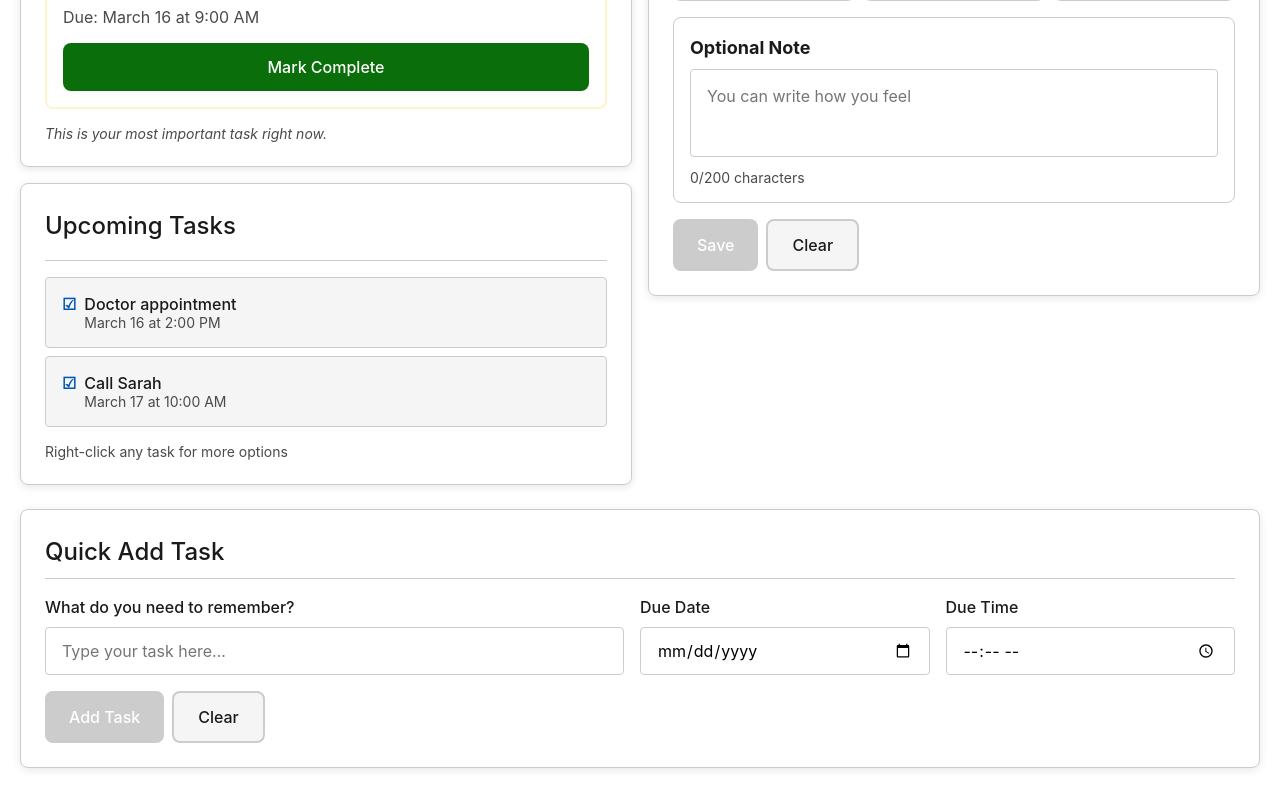
DashboardView › clears quick add form
(page scrolled)
Type "Something" into the field labelled "What do you need to remember?".
click(334, 651); type("Something")  # box [45, 627, 624, 675]
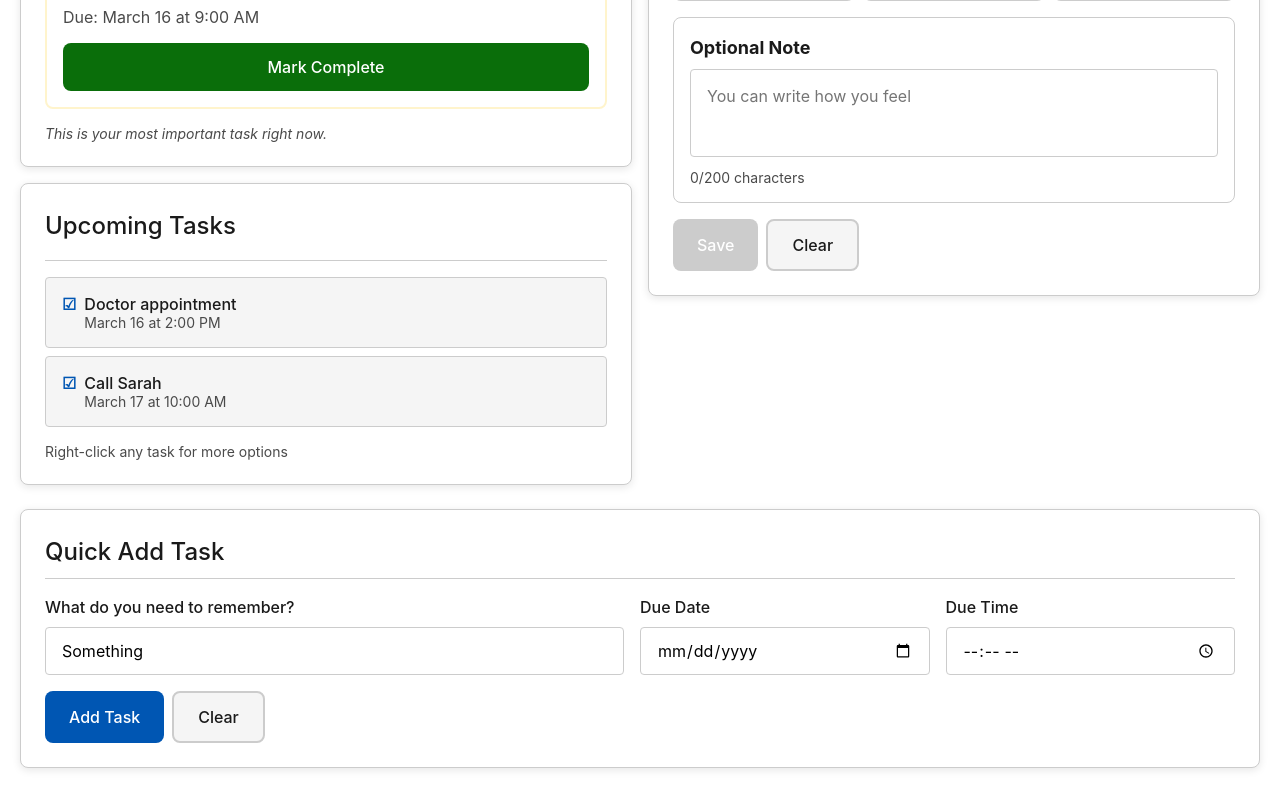
Click the button with aria-label "Clear quick add form".
click(218, 717)  # box [172, 691, 265, 743]
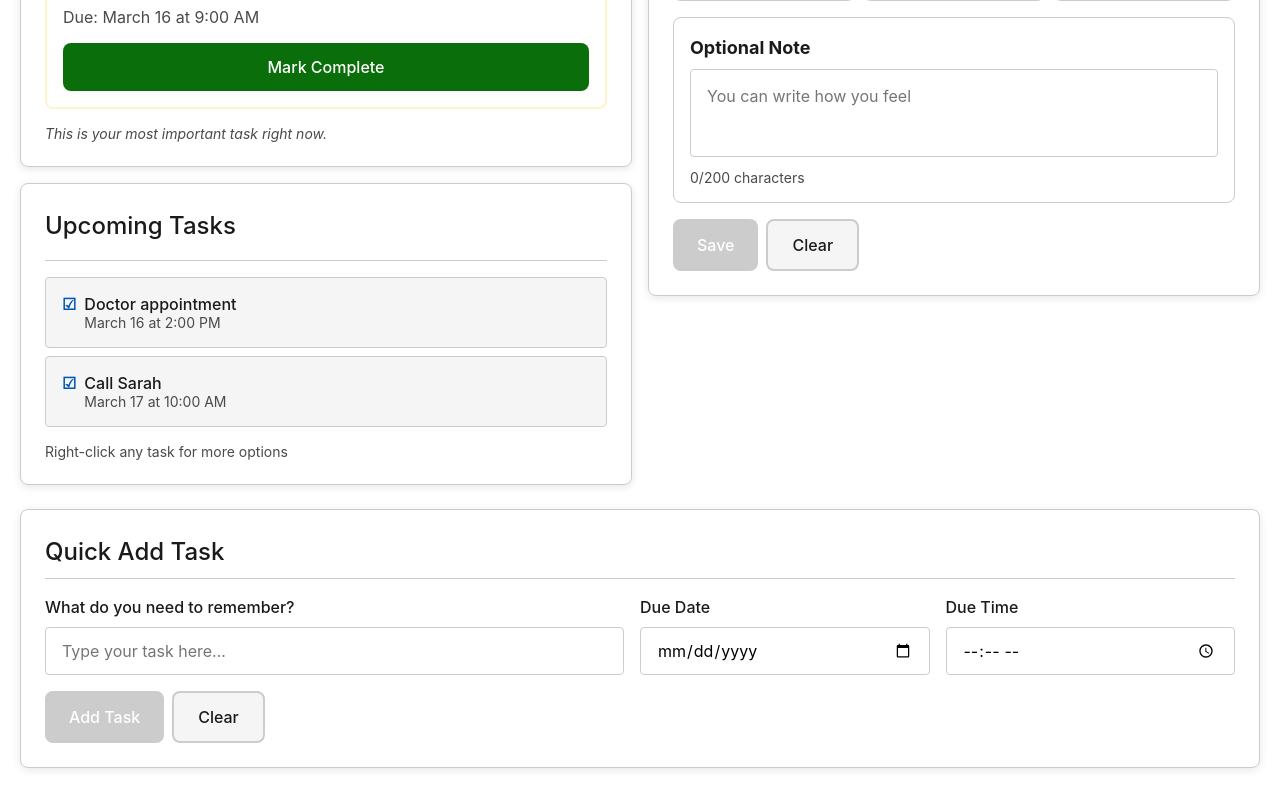
Now the field labelled "What do you need to remember?" is empty, box [45, 627, 624, 675]
